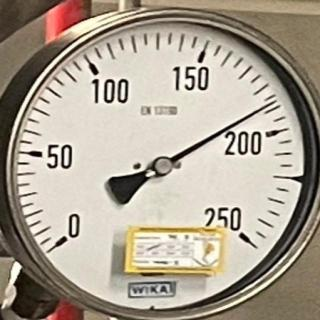gauge: (0, 0, 320, 320), (42, 210, 90, 262), (227, 220, 257, 252), (152, 154, 174, 178), (265, 95, 281, 109)
